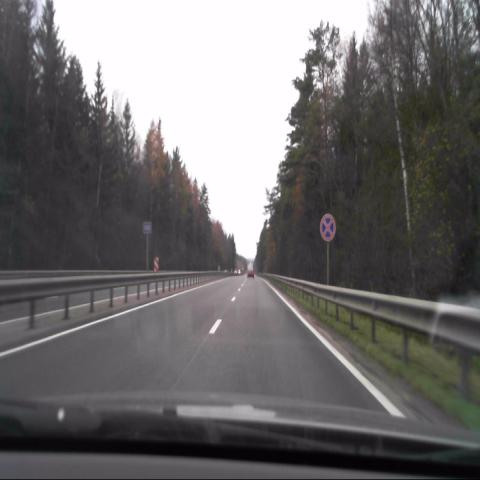3_27: (320, 213, 336, 242)
